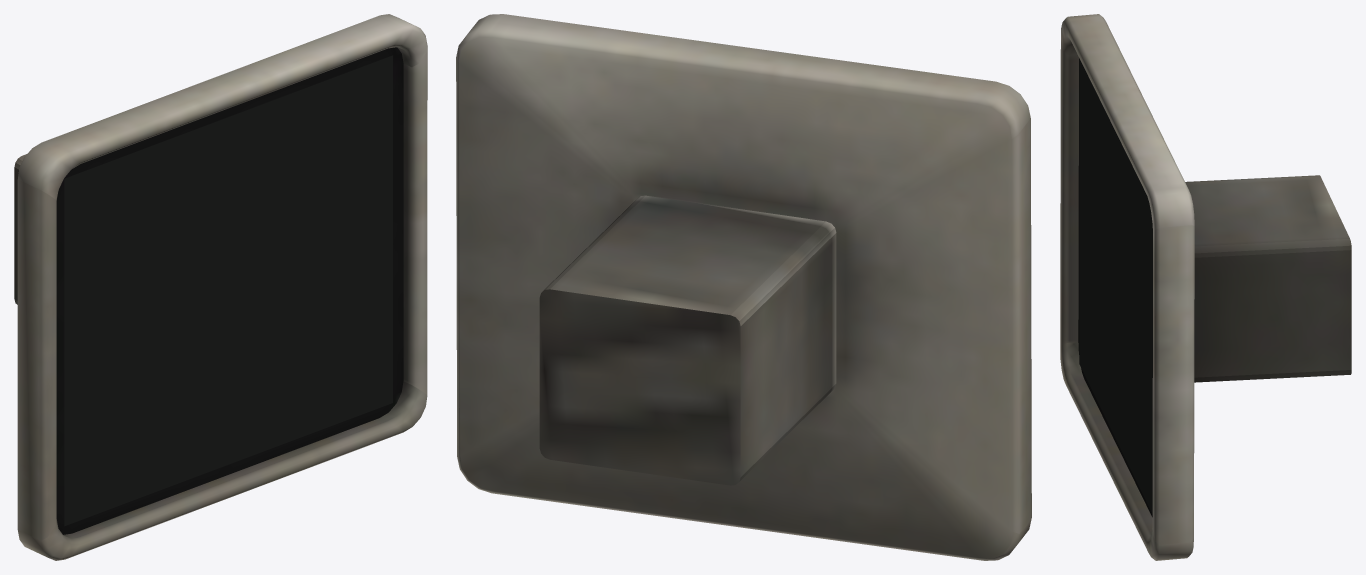
Rendered from 02_06_scan_chamber_outercomputer.dae.
3 views of the same model, side by side, from view 1: azimuth 30°, elevation 25°; view 2: azimuth 150°, elevation 25°; view 3: azimuth 270°, elevation 25° (orthographic). The views are drawn at different scales.
Visible parts, largest first — view 1: outerscreen, polySurface337; view 2: polySurface337; view 3: polySurface337, outerscreen.
Boxes of the visible parts, x1=… form: outerscreen: x1=64, y1=55, x2=392, y2=526; polySurface337: x1=14, y1=14, x2=427, y2=560; polySurface337: x1=456, y1=14, x2=1031, y2=560; polySurface337: x1=1060, y1=14, x2=1351, y2=560; outerscreen: x1=1079, y1=58, x2=1152, y2=513.
Bounding box in the file's own units: 0.6243 × 0.5438 × 0.3898.
